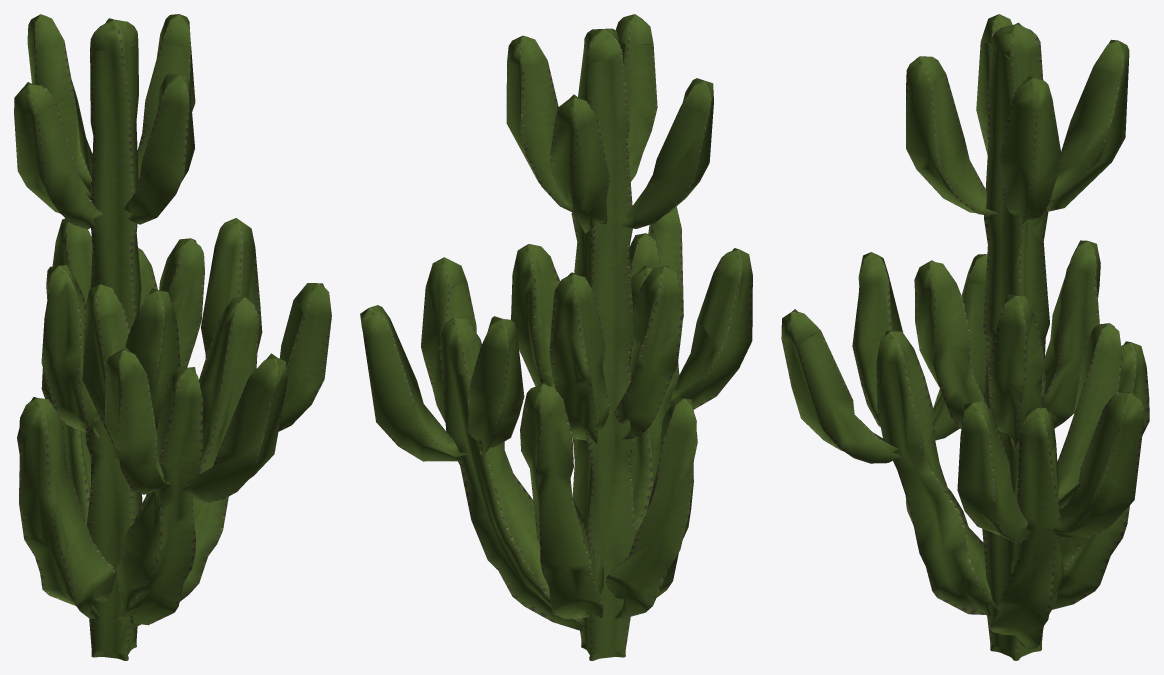
File: cand21.glb
The picture shows the model from 3 angles, left to right: view 1: azimuth 30°, elevation 25°; view 2: azimuth 150°, elevation 25°; view 3: azimuth 270°, elevation 25°; orthographic projection.
Visible parts, largest first — view 1: Euphorbia_candelabrum_HD; view 2: Euphorbia_candelabrum_HD; view 3: Euphorbia_candelabrum_HD.
Part boxes in pixels (<box>): Euphorbia_candelabrum_HD: <box>14,14,331,660</box>; Euphorbia_candelabrum_HD: <box>360,14,752,660</box>; Euphorbia_candelabrum_HD: <box>781,14,1149,660</box>.
Size of the model in its own units: 0.4843 by 0.9735 by 0.5189.
2 materials, 2 textured.
